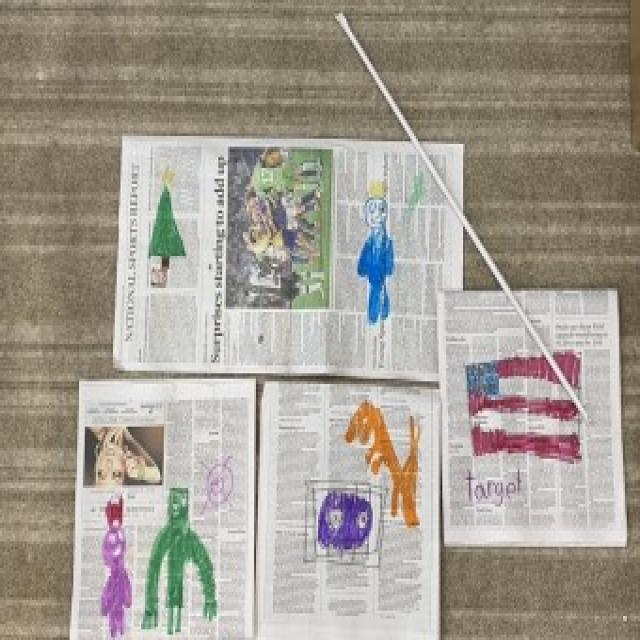Newspaper: (73, 381, 433, 640), (122, 139, 450, 376), (433, 282, 630, 545)
